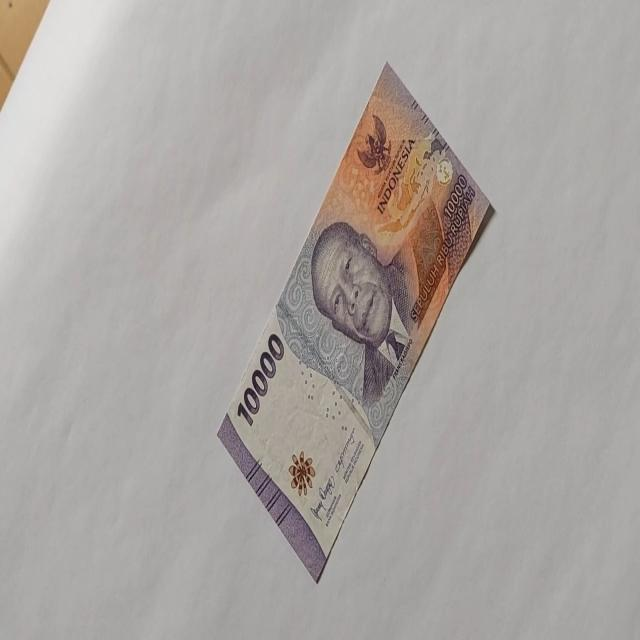sepuluh ribu rupiah: (216, 59, 494, 584), (236, 331, 284, 428)
